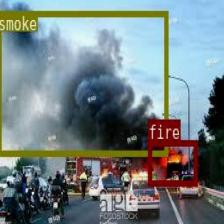fire: (148, 139, 196, 184)
smoke: (0, 9, 167, 155)
